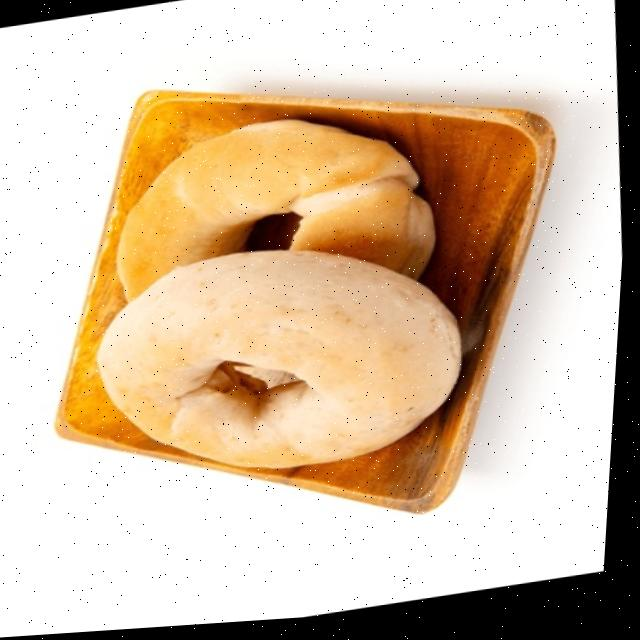Bagel: (102, 253, 466, 472), (119, 122, 437, 301)
